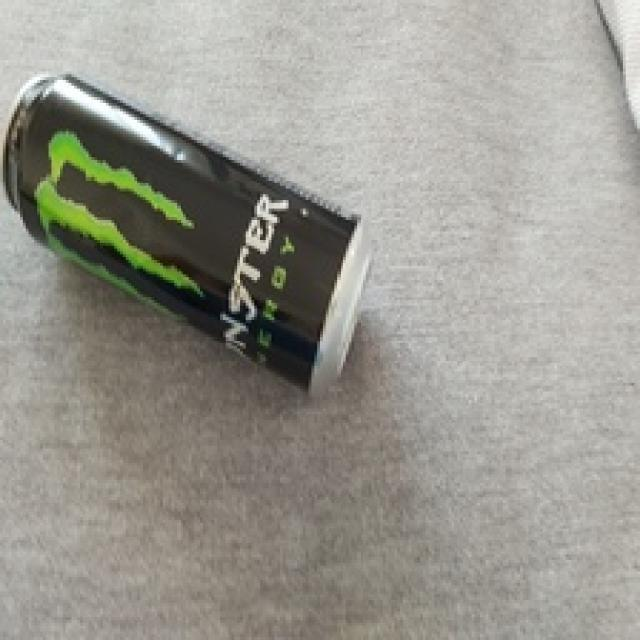recyclable: (0, 67, 375, 400)
